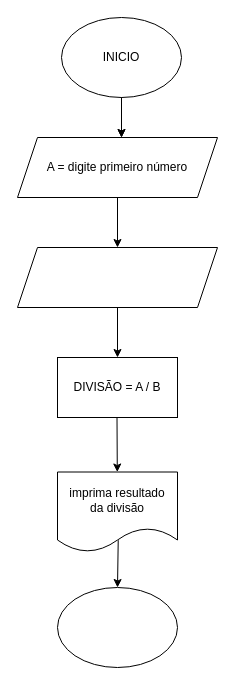
The diagram is 235 pixels wide and 685 high, and some of its shapes have lost their labels. The centre of each missing label's shape, as x and y in pixels:
"B = digite primeiro número" belongs at point (117, 277).
"FIM" belongs at point (117, 627).
